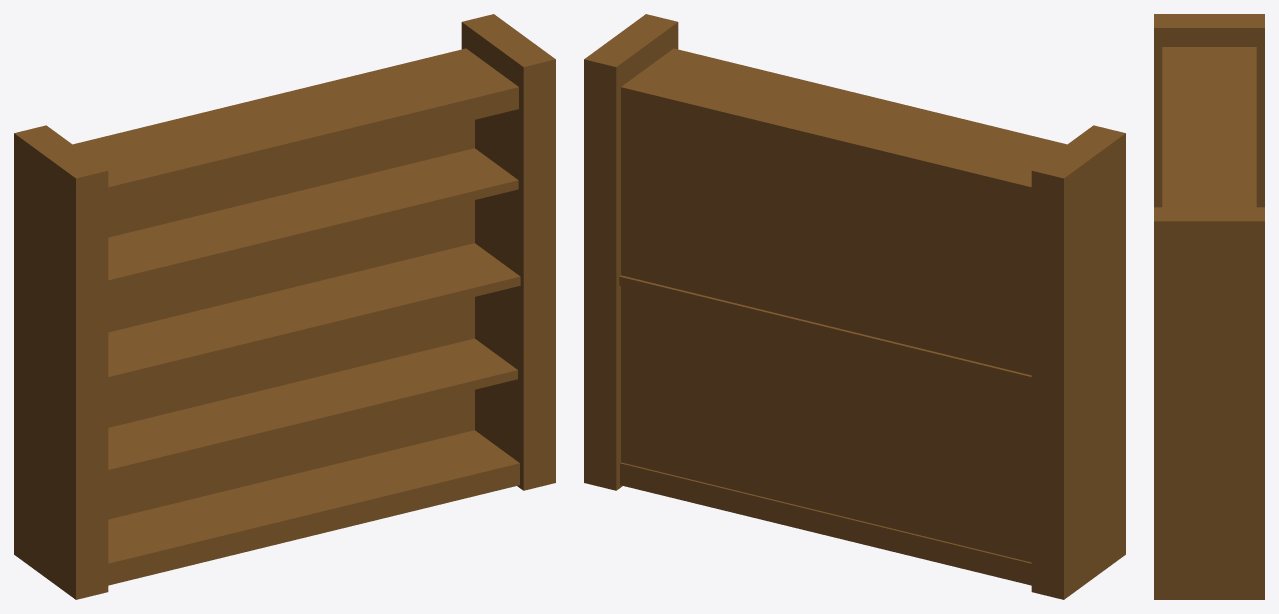
File: bookself.fbx
The picture shows the model from 3 angles, left to right: view 1: azimuth 30°, elevation 25°; view 2: azimuth 150°, elevation 25°; view 3: azimuth 270°, elevation 25°; orthographic projection. The views are drawn at different scales.
Visible parts, largest first — view 1: pCube35; view 2: pCube35; view 3: pCube35.
Boxes of the visible parts, x1,y1,x2,y2 form: pCube35: (14, 14, 555, 599); pCube35: (584, 14, 1125, 599); pCube35: (1154, 14, 1264, 599).
Bounding box in the file's own units: 13.06 × 11.02 × 2.92.
